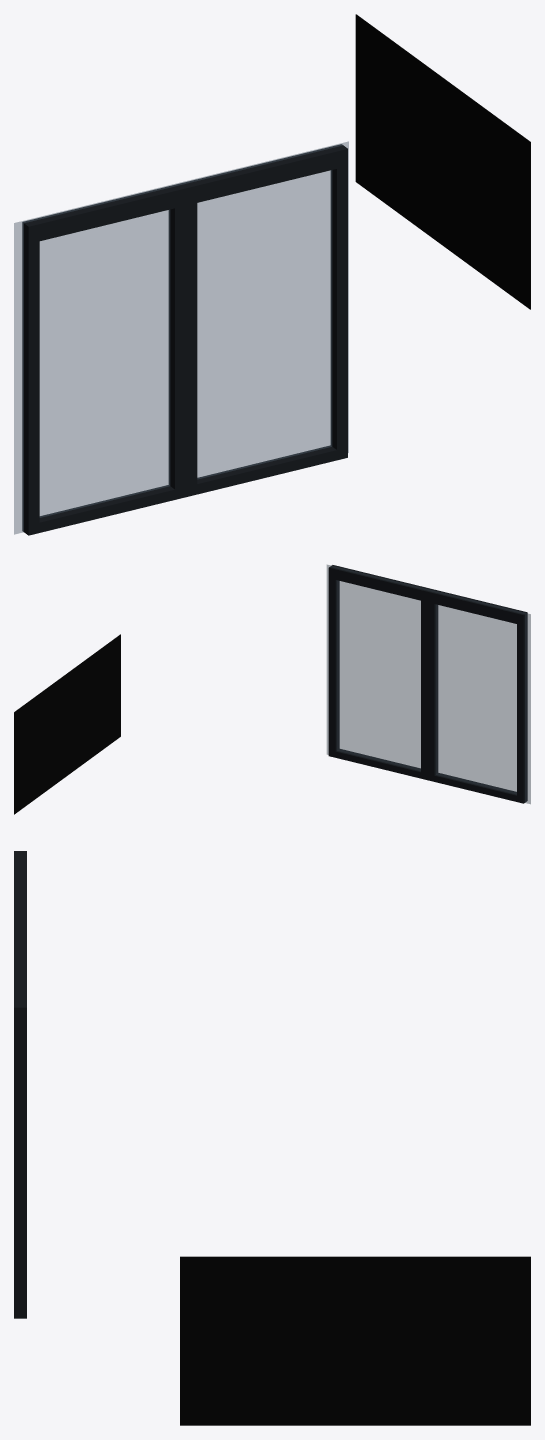
Rendered from chuang0.obj.
3 renders of one model, top to bottom at view 1: azimuth 30°, elevation 25°; view 2: azimuth 150°, elevation 25°; view 3: azimuth 270°, elevation 25°, orthographic. The views are drawn at different scales.
Visible parts, largest first — view 1: Rectangle294573260, Rectangle294573261, w_cg_taobao_com__________3810; view 2: Rectangle294573260, Rectangle294573261, w_cg_taobao_com__________3810; view 3: w_cg_taobao_com__________3810, Rectangle294573261.
Boxes of the visible parts, left/top/right/bottom form: Rectangle294573260: left=14, top=141, right=348, bottom=534; Rectangle294573261: left=22, top=144, right=347, bottom=535; w_cg_taobao_com__________3810: left=355, top=14, right=530, bottom=309; Rectangle294573260: left=326, top=564, right=530, bottom=804; Rectangle294573261: left=328, top=565, right=527, bottom=803; w_cg_taobao_com__________3810: left=14, top=634, right=120, bottom=814; w_cg_taobao_com__________3810: left=180, top=1256, right=530, bottom=1425; Rectangle294573261: left=14, top=851, right=26, bottom=1318.
Size of the model in its own units: 31.96 by 16 by 23.92.
